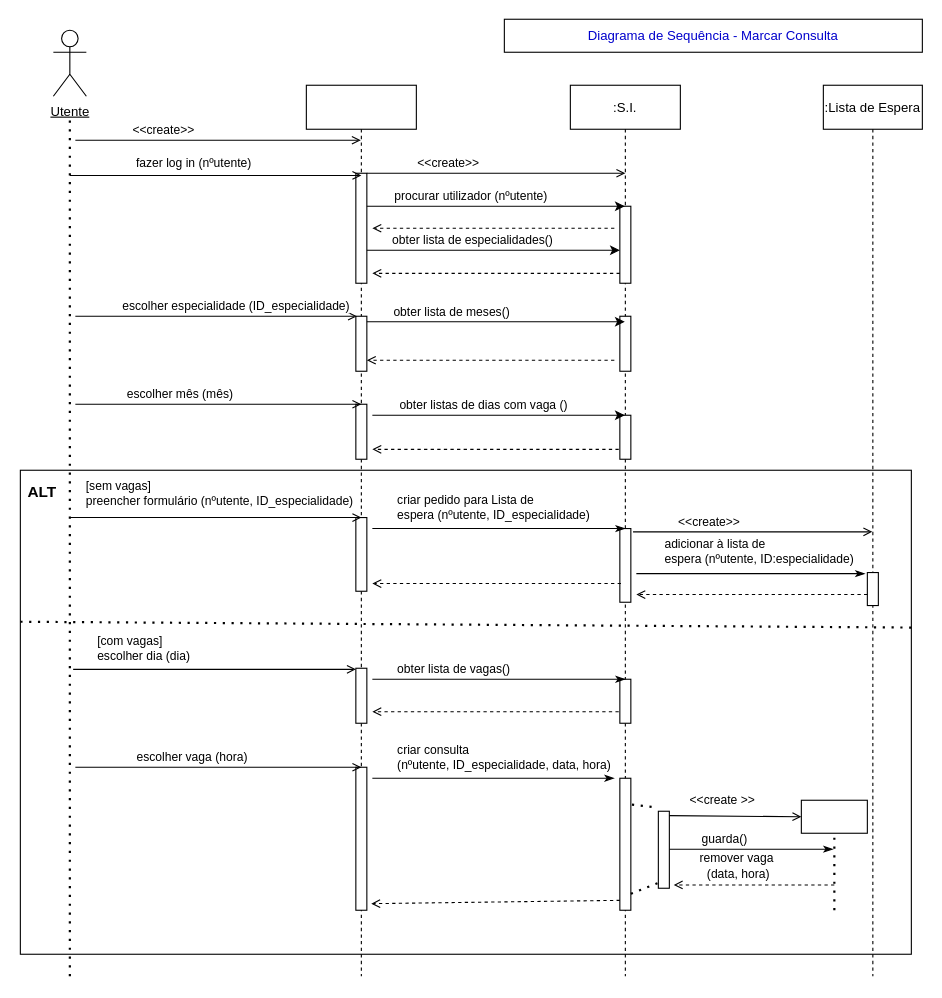
This 942x998 diagram has some shape labels left out. Each missing label, with the centre of its shape:
": consulta" belongs at pixel 833 816.
":Interface" belongs at pixel 360 530.
